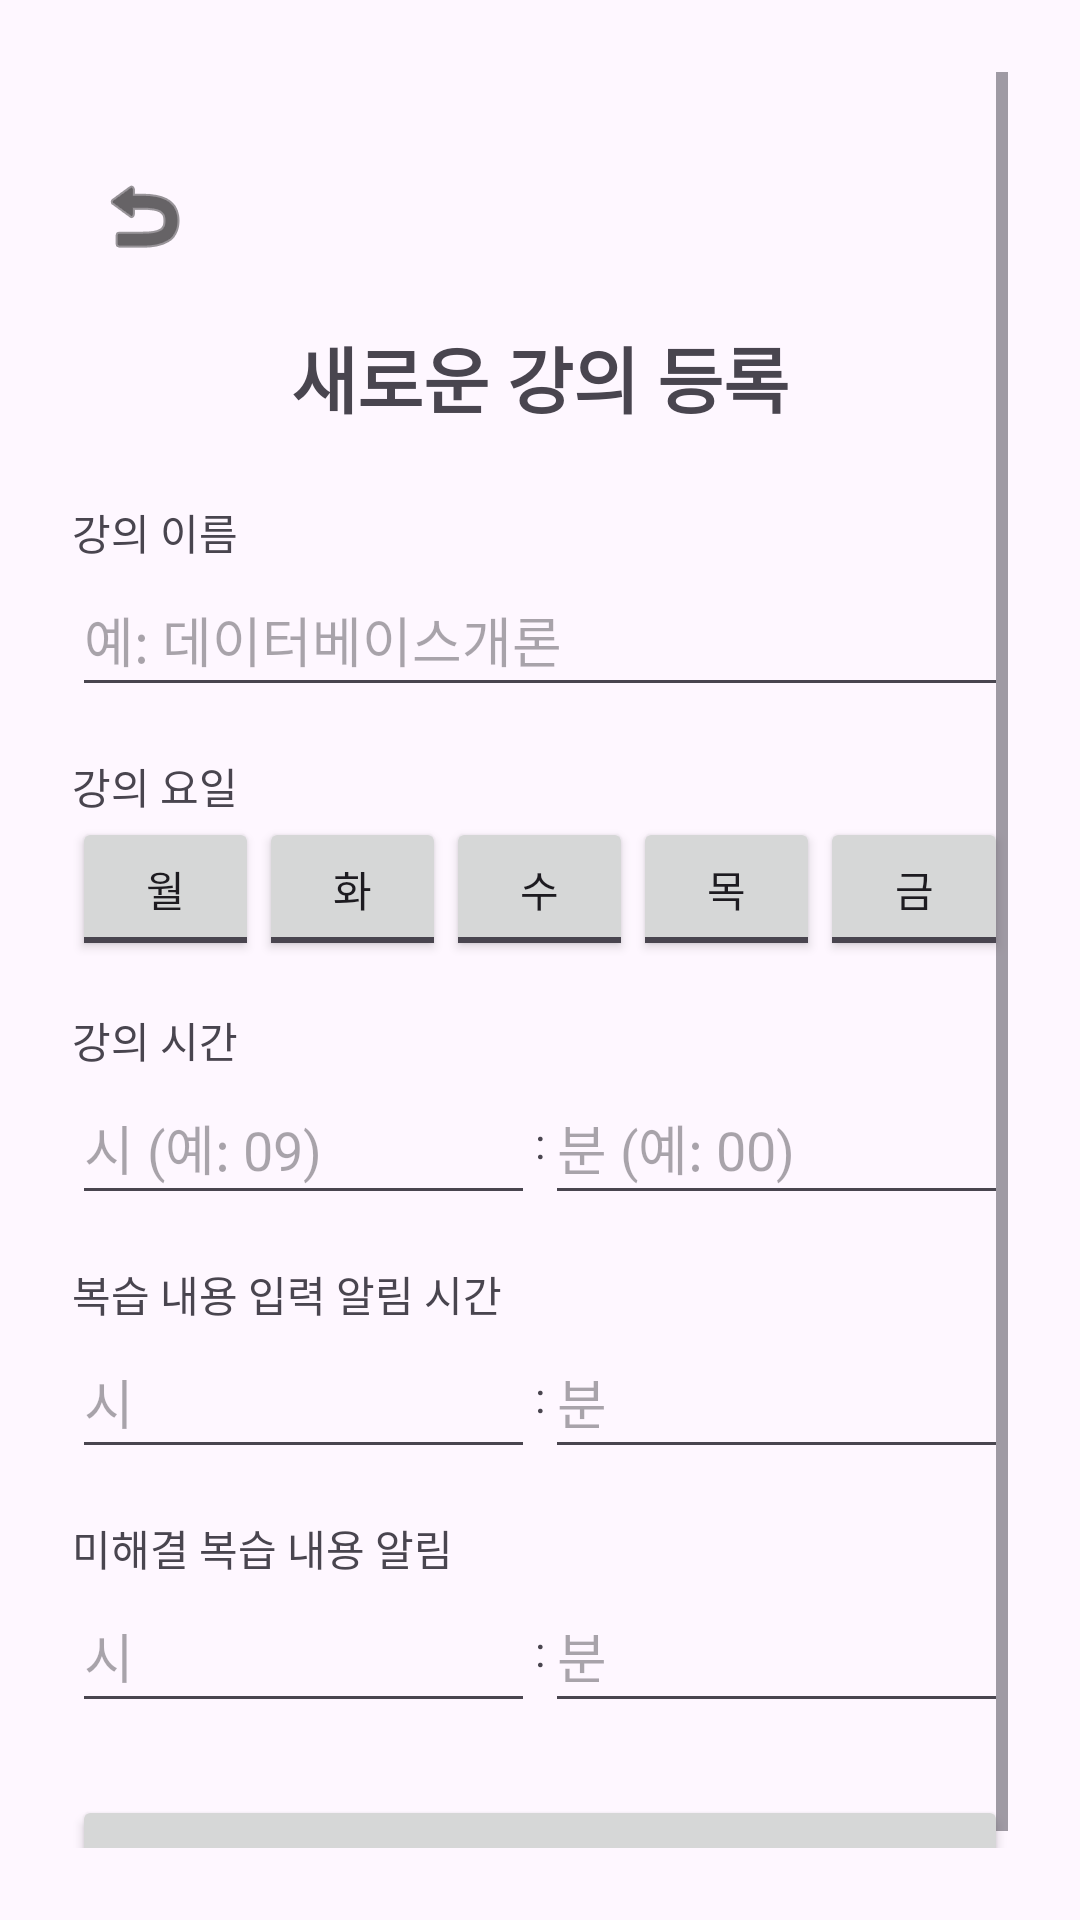

Icon click points for this 1080 x 1920 phone screenshot, format [x,y]:
뒤로가기: [145,216]
